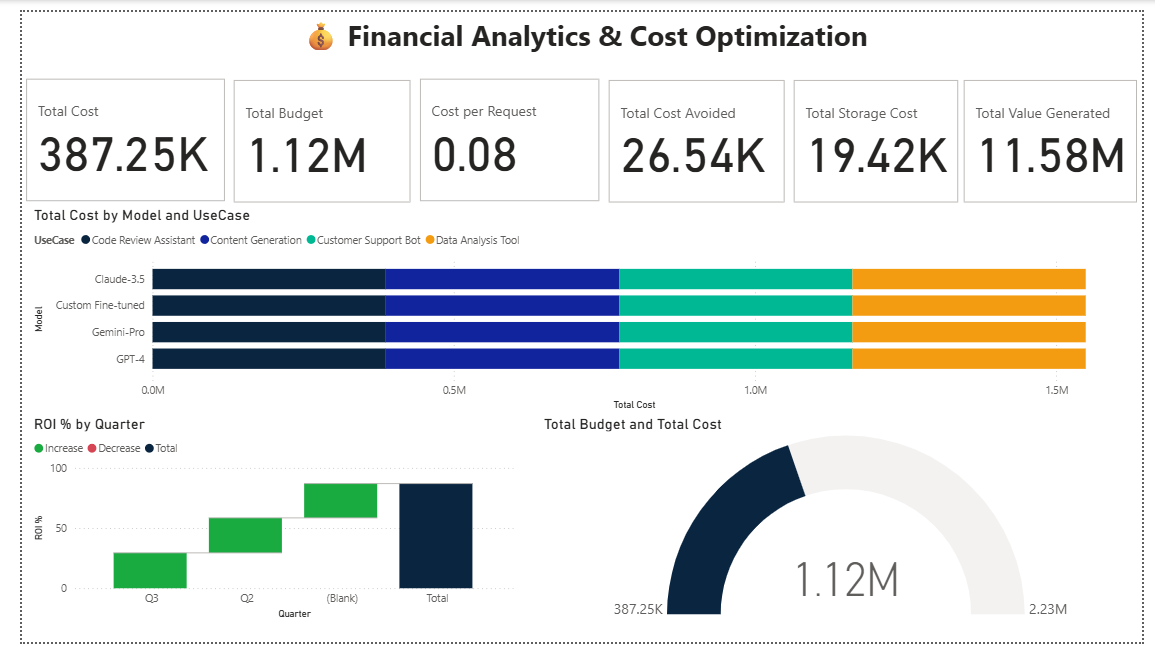

The dashboard page shown, as its layout file describes it:
{"tool":"powerbi","page":{"name":"Page 3","canvas":[1280,720],"ordinal":2},"visuals":[{"type":"textbox","box":[314.3,0,757.1,71.4],"z":4000},{"type":"cardVisual","fields":{"Data":["Measures .Total Cost"]},"box":[0,71.4,237.1,150],"z":5000},{"type":"cardVisual","fields":{"Data":["Measures .Total Budget"]},"box":[237.1,72.9,212.9,150],"z":6000},{"type":"cardVisual","fields":{"Data":["Measures .Cost per Request"]},"box":[450,71.4,215.7,150],"z":7000},{"type":"cardVisual","fields":{"Data":["Measures .Total Cost Avoided"]},"box":[665.7,72.9,211.4,150],"z":7001},{"type":"cardVisual","fields":{"Data":["Measures .Total Storage Cost"]},"box":[877.1,72.9,198.6,150],"z":7002},{"type":"cardVisual","fields":{"Data":["Measures .Total Value Generated"]},"box":[1071.4,72.9,208.6,150],"z":7003},{"type":"barChart","fields":{"Y":["Measures .Total Cost"],"Category":["ModelPerformance.Model"],"Series":["ModelPerformance.UseCase"]},"box":[8.6,221.4,1261.4,238.6],"z":7004},{"type":"waterfallChart","fields":{"Y":["Measures .ROI %"],"Category":["DimDate.Quarter"]},"box":[8.6,460,558.6,238.6],"z":7005},{"type":"gauge","fields":{"Y":["Measures .Total Budget"],"MinValue":["Measures .Total Cost"]},"box":[591.4,460,688.6,238.6],"z":7006}]}

Visuals, with their boxes in screenshot pixels (x1, y1, x2, y2), scaled from the page's 1280x720 canvas onto the 1155x656 screenshot:
textbox: x1=284 y1=0 x2=967 y2=65
cardVisual - Measures .Total Cost: x1=0 y1=65 x2=214 y2=202
cardVisual - Measures .Total Budget: x1=214 y1=66 x2=406 y2=203
cardVisual - Measures .Cost per Request: x1=406 y1=65 x2=601 y2=202
cardVisual - Measures .Total Cost Avoided: x1=601 y1=66 x2=791 y2=203
cardVisual - Measures .Total Storage Cost: x1=791 y1=66 x2=971 y2=203
cardVisual - Measures .Total Value Generated: x1=967 y1=66 x2=1154 y2=203
barChart - Measures .Total Cost x ModelPerformance.Model: x1=8 y1=202 x2=1146 y2=419
waterfallChart - Measures .ROI % x DimDate.Quarter: x1=8 y1=419 x2=512 y2=637
gauge - Measures .Total Budget x Measures .Total Cost: x1=534 y1=419 x2=1154 y2=637
